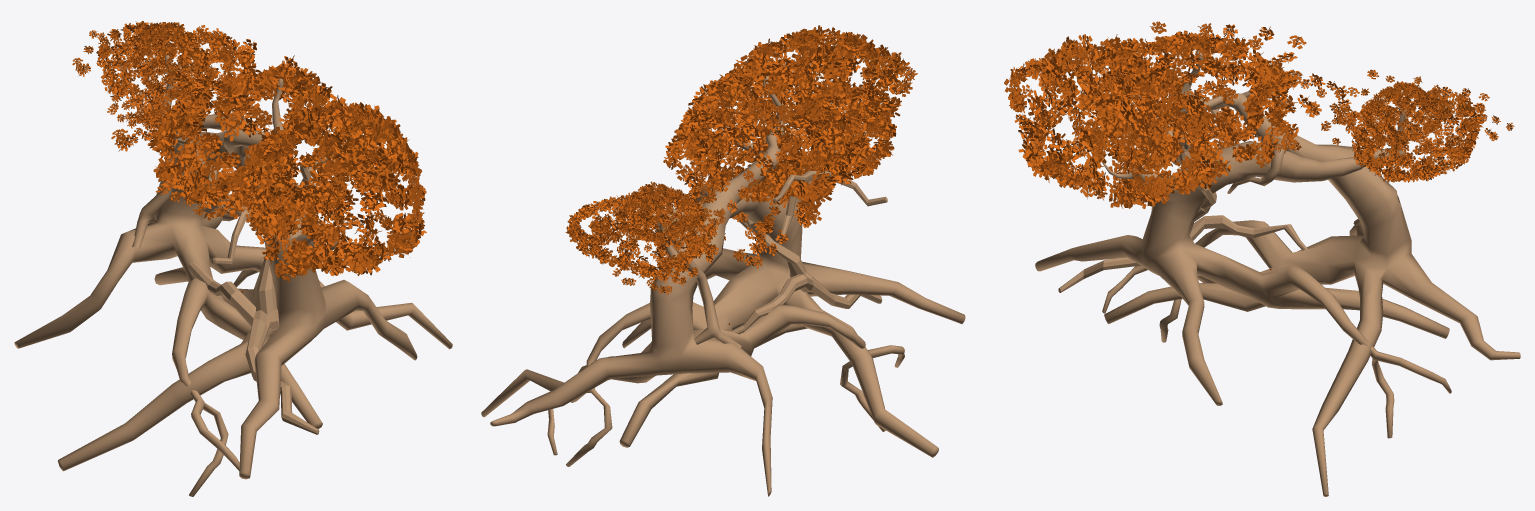
Rendered from Sacred_Tree_ArenaForest_1 1.fbx.
The picture shows the model from 3 angles, left to right: view 1: azimuth 30°, elevation 25°; view 2: azimuth 150°, elevation 25°; view 3: azimuth 270°, elevation 25°; orthographic projection. The views are drawn at different scales.
Visible parts, largest first — view 1: Sacred_Tree_Gate; view 2: Sacred_Tree_Gate; view 3: Sacred_Tree_Gate.
Boxes of the visible parts, <box> form: Sacred_Tree_Gate: <box>14,21,452,496</box>; Sacred_Tree_Gate: <box>481,25,965,496</box>; Sacred_Tree_Gate: <box>1004,21,1520,496</box>.
Bounding box in the file's own units: 249 × 219 × 283.
2 materials, 1 textured.
